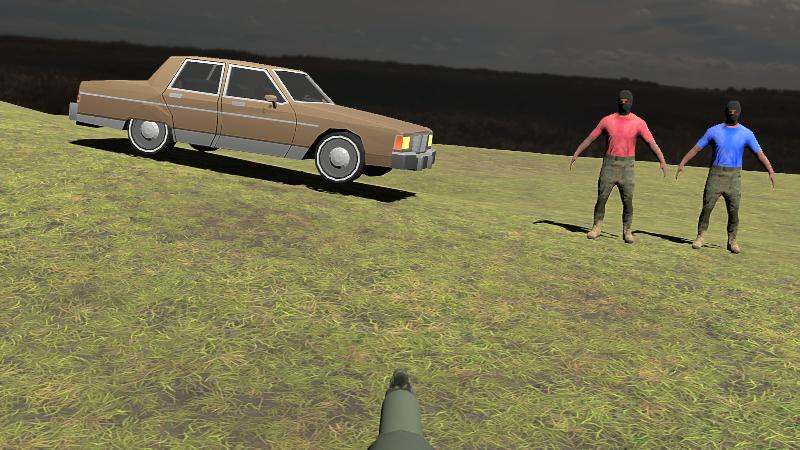Human: (676, 98, 775, 255), (570, 88, 667, 243)
car: (68, 57, 435, 186)
